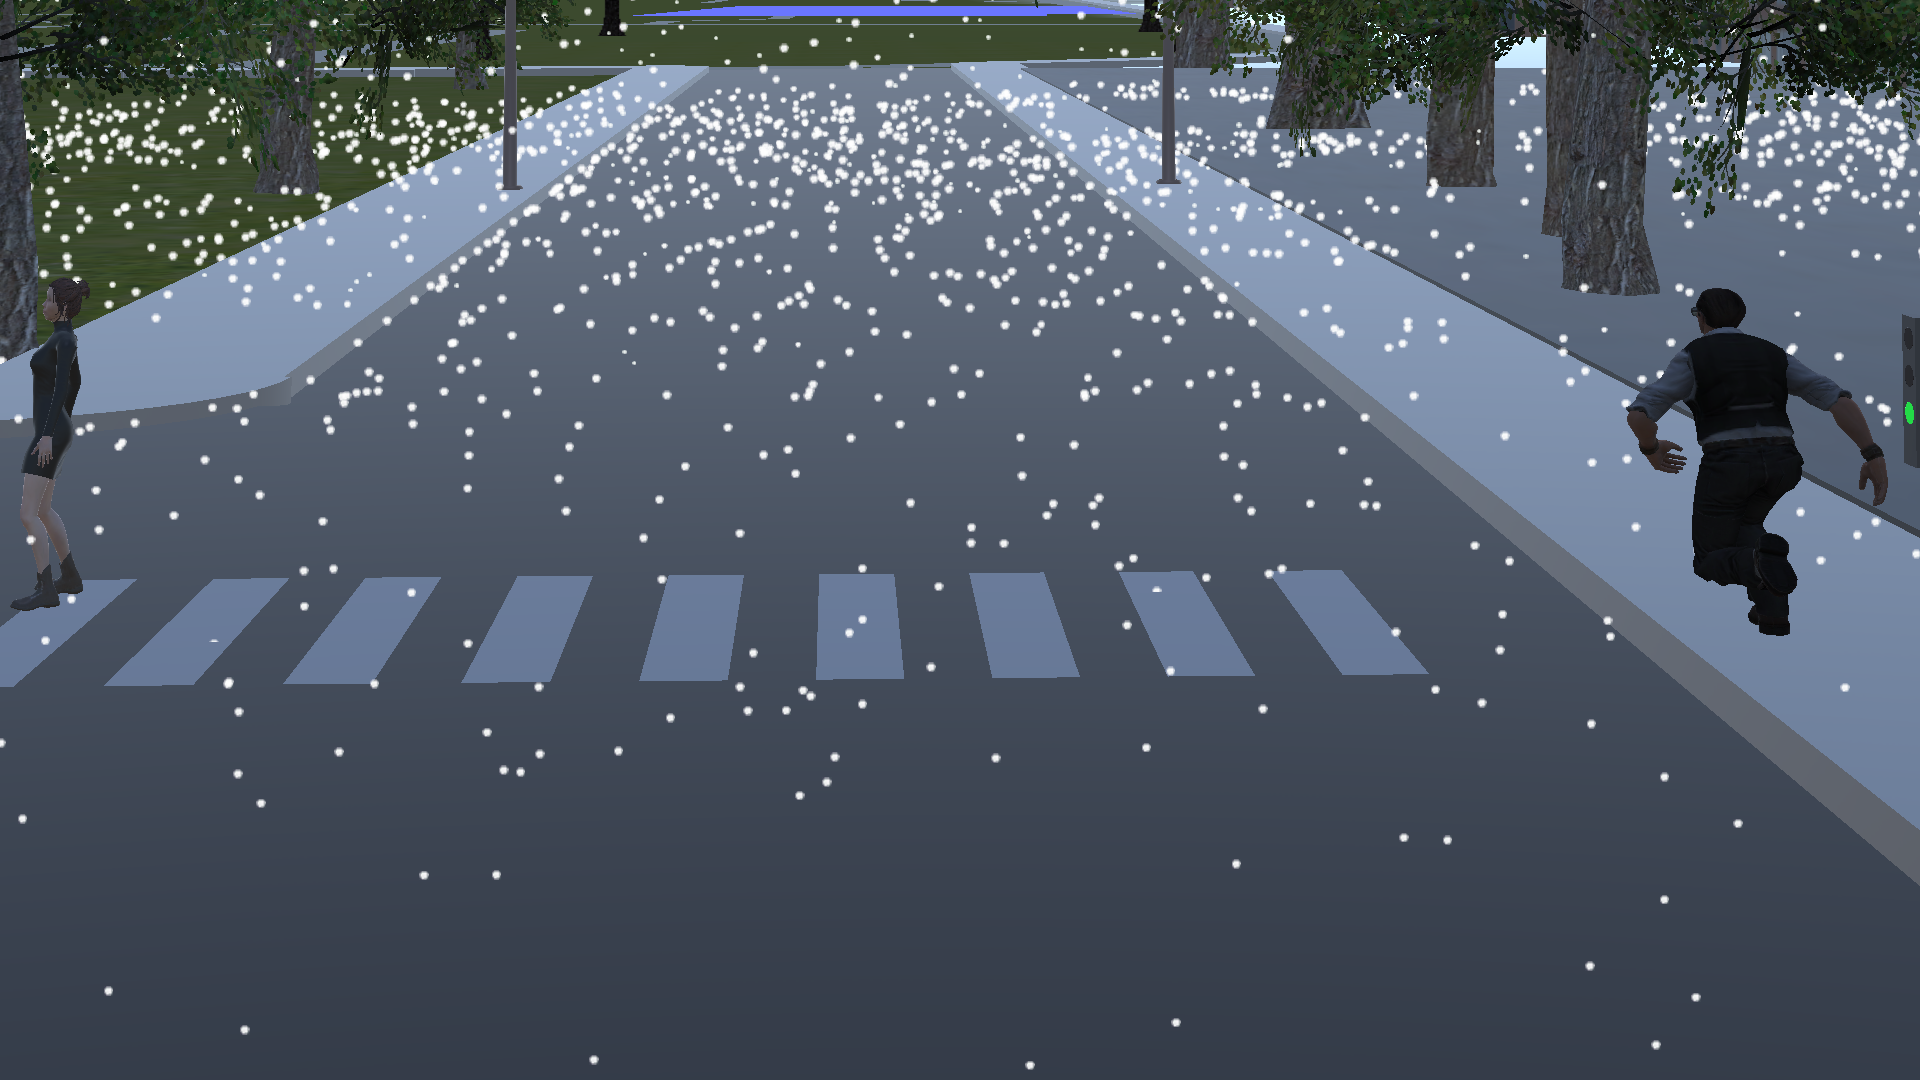pedestrian: (1629, 275, 1902, 640), (7, 275, 105, 617)
